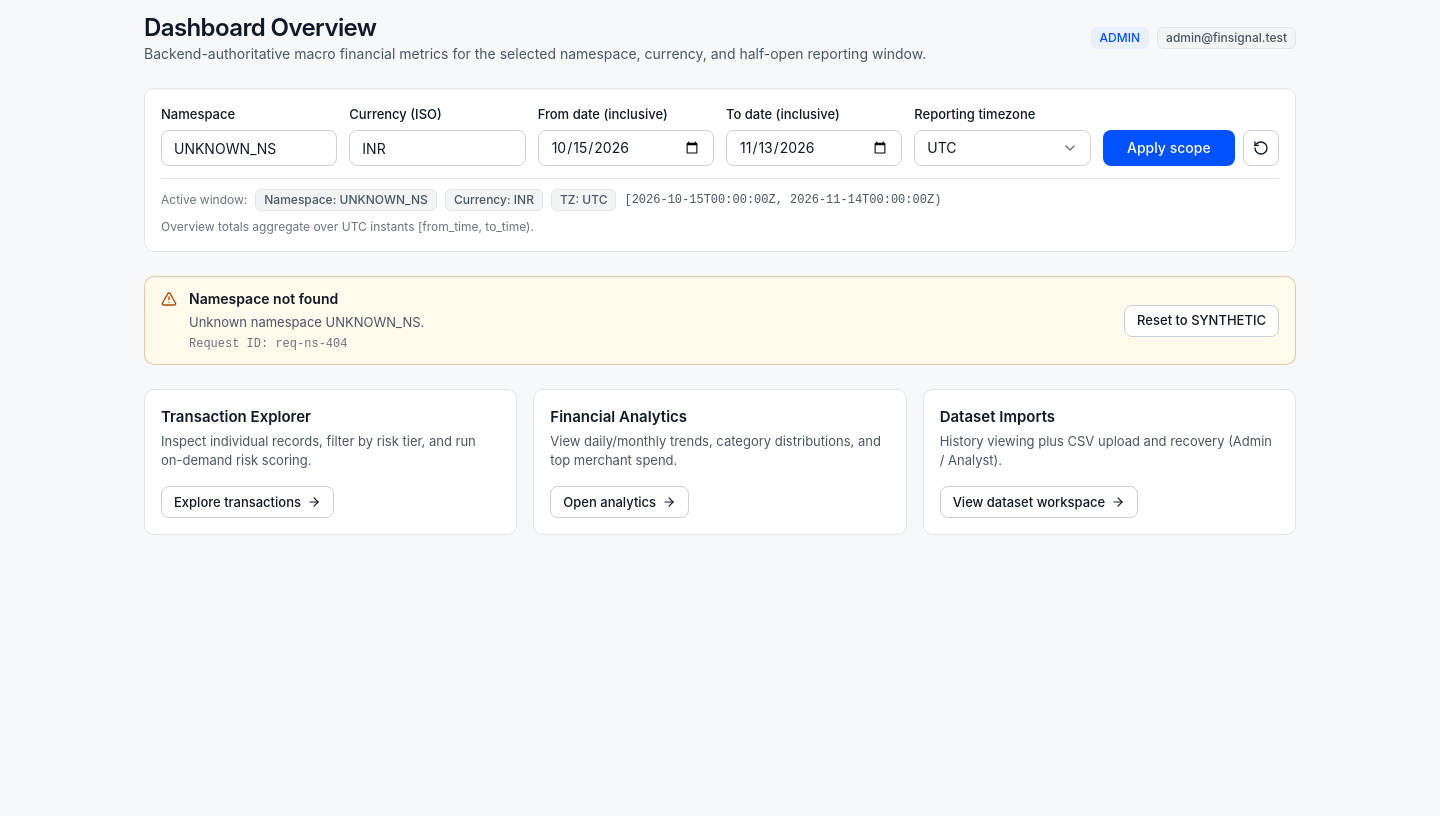
DashboardPage (F3.2) › handles 404 NAMESPACE_NOT_FOUND reset and 500 Retry cleanly
Expected: the message shows "Unknown namespace", [189, 314, 424, 330]
Click the button "Reset to SYNTHETIC": (1202, 320) [1124, 304, 1279, 336]
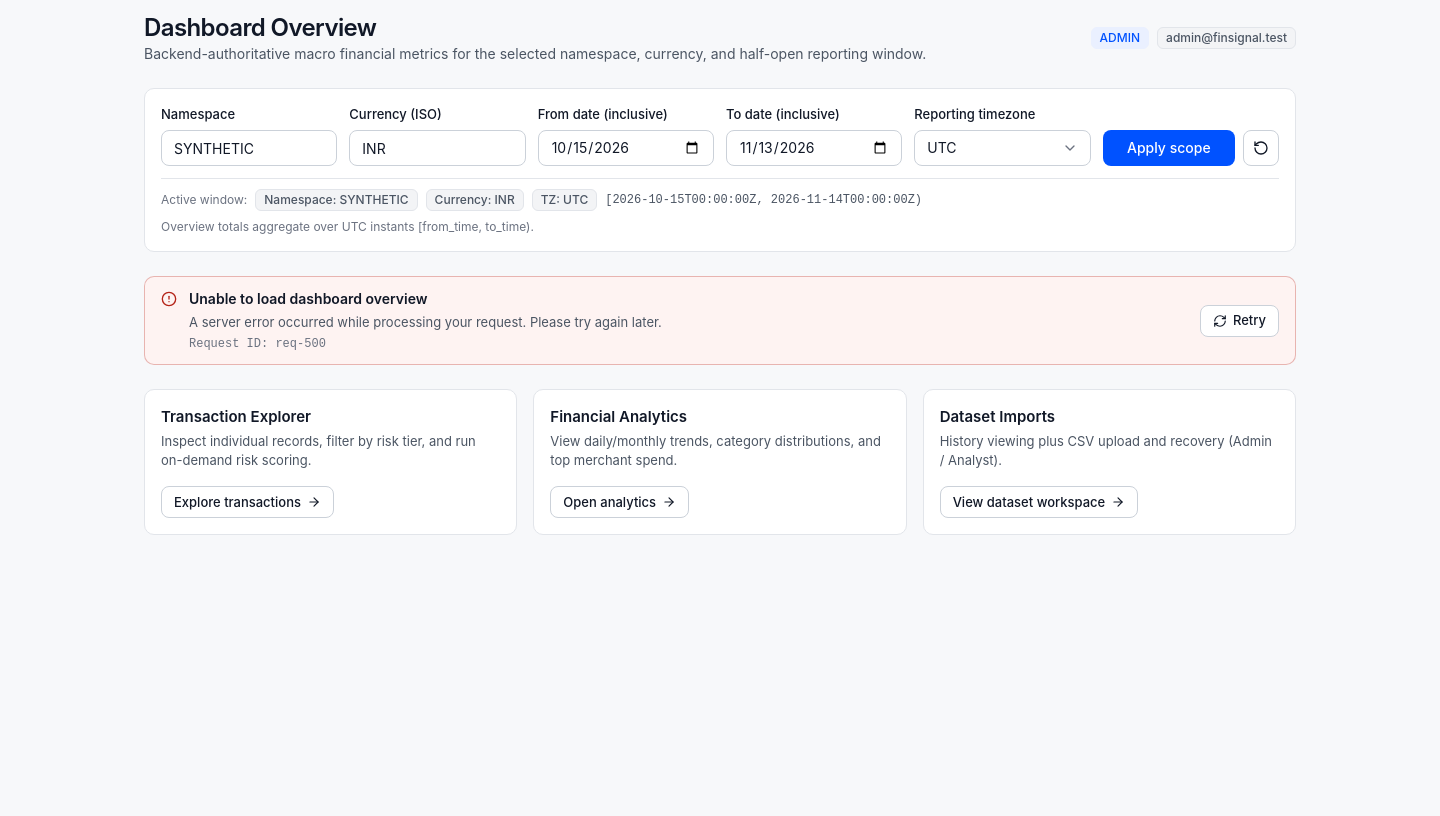
Now the message shows "Unable to load dashboard overview", box [189, 290, 428, 307]
Now the text "Request ID: req-500" is shown, box [189, 337, 326, 351]
Click the button "Retry": (1240, 320) [1200, 304, 1279, 336]
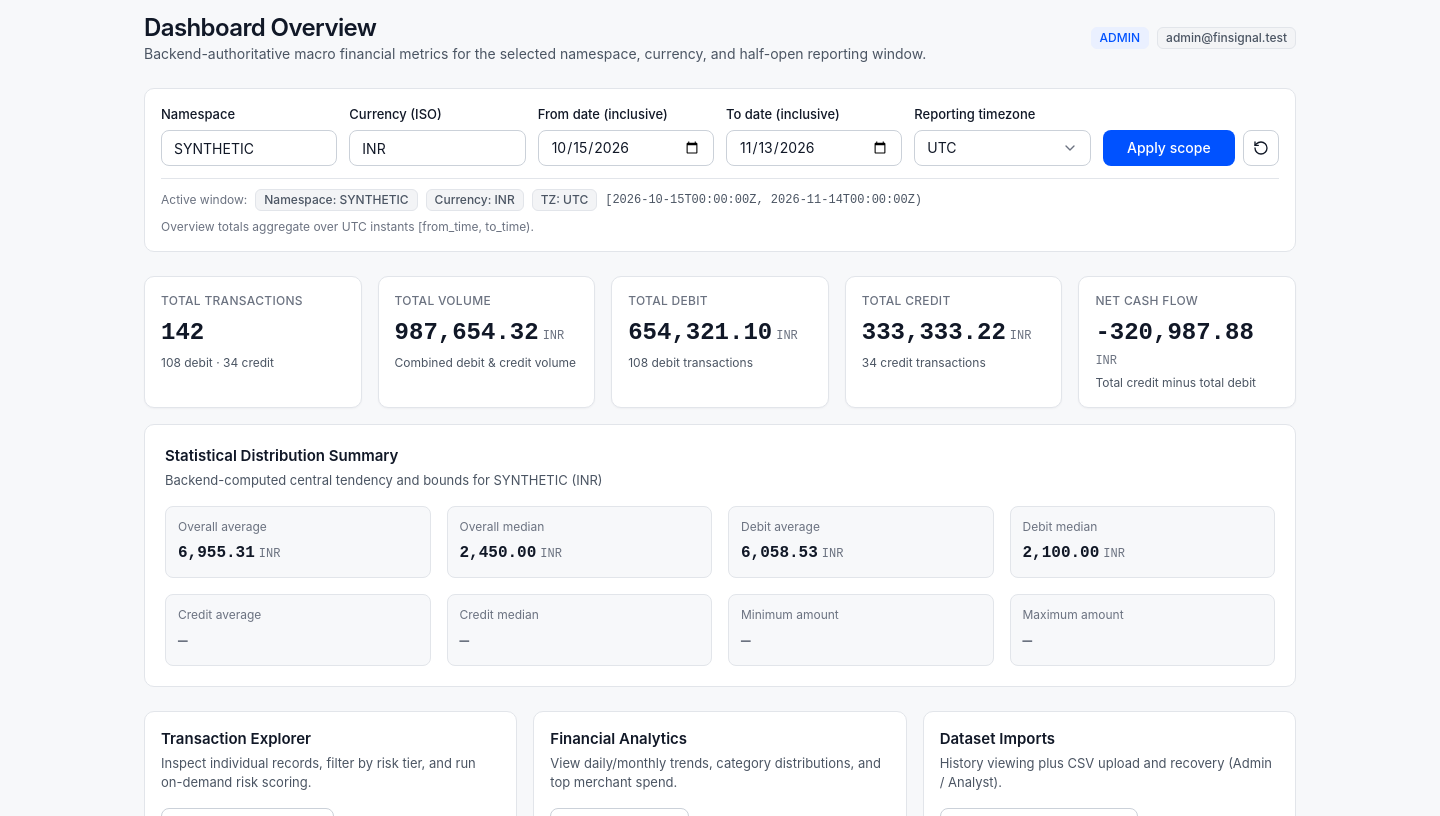
Now the text "142" is shown, box [161, 319, 204, 346]
